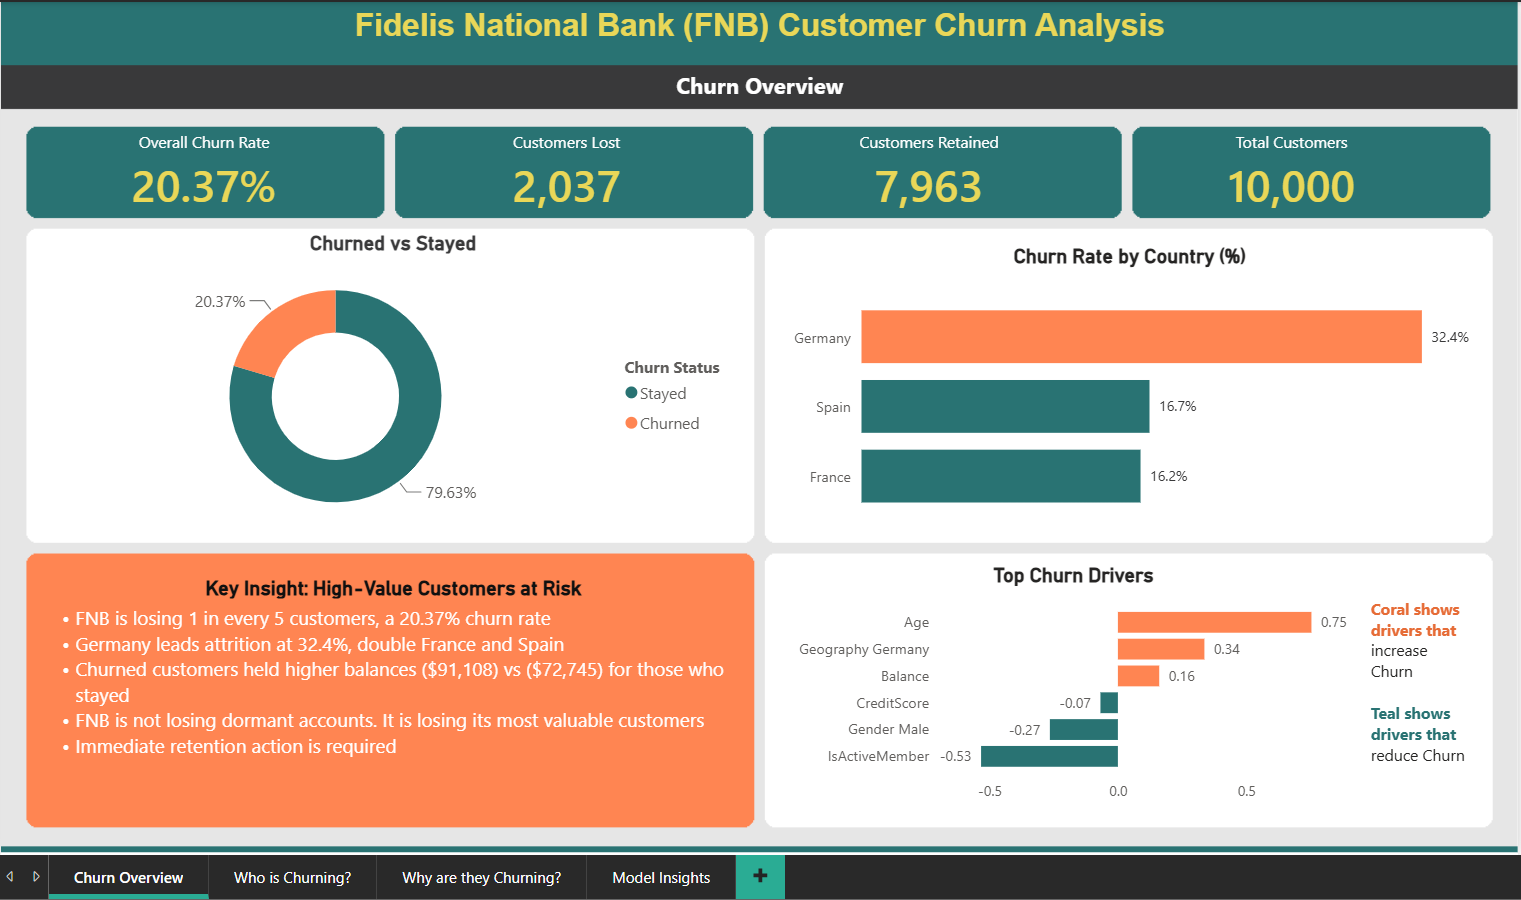

Layout of this report page (visuals, bound fields, positions):
{"tool":"powerbi","page":{"name":"Churn Overview","canvas":[1280,720],"ordinal":0},"visuals":[{"type":"textbox","box":[0,0,1280.2,52.3],"z":0},{"type":"textbox","box":[0,52.3,1280.2,37.2],"z":1000},{"type":"cardVisual","fields":{"Data":["Churn_Modelling.Customers Lost"]},"box":[380.2,95.3,193,97.7],"z":2000},{"type":"cardVisual","fields":{"Data":["Churn_Modelling.Customers Retained"]},"box":[686,95.3,193,97.7],"z":3000},{"type":"cardVisual","fields":{"Data":["Churn_Modelling.Total Customers"]},"box":[991.9,95.3,193,97.7],"z":4000},{"type":"cardVisual","fields":{"Data":["Churn_Modelling.Churn Rate"]},"box":[74.4,95.3,193,97.7],"z":5000},{"type":"donutChart","title":"Churned vs Stayed","fields":{"Category":["Churn_Modelling.ChurnStatus"],"Y":["Churn_Modelling.Total Customers Count"]},"box":[33.7,193,594.2,260.5],"z":6000},{"type":"clusteredBarChart","title":"Churn Rate by Country (%)","fields":{"Category":["Churn_Modelling.Geography"],"Y":["Churn_Modelling.Churn Rate"]},"box":[660.5,204.7,583.7,248.8],"z":7000},{"type":"textbox","title":"Key Insight: High-Value Customers at Risk","box":[33.7,484,594.7,189.8],"z":8000},{"type":"clusteredBarChart","title":"Top Churn Drivers","fields":{"Y":["Sum(ChurnDrivers.Coefficient)"],"Category":["ChurnDrivers.Feature"]},"box":[660.5,473.3,489.5,210.5],"z":9000},{"type":"textbox","box":[1150,497.7,94.2,186],"z":10000}]}

Visuals, with their boxes on the page's 1280x720 design canvas (x1, y1, x2, y2). These are canvas units, not pixel positions in the 1521x900 screenshot, which may show the page scaled, cropped or inside an application window:
textbox: 0:0:1280:52
textbox: 0:52:1280:90
cardVisual - Churn_Modelling.Customers Lost: 380:95:573:193
cardVisual - Churn_Modelling.Customers Retained: 686:95:879:193
cardVisual - Churn_Modelling.Total Customers: 992:95:1185:193
cardVisual - Churn_Modelling.Churn Rate: 74:95:267:193
"Churned vs Stayed" donutChart: 34:193:628:454
"Churn Rate by Country (%)" clusteredBarChart: 660:205:1244:454
"Key Insight: High-Value Customers at Risk" textbox: 34:484:628:674
"Top Churn Drivers" clusteredBarChart: 660:473:1150:684
textbox: 1150:498:1244:684
